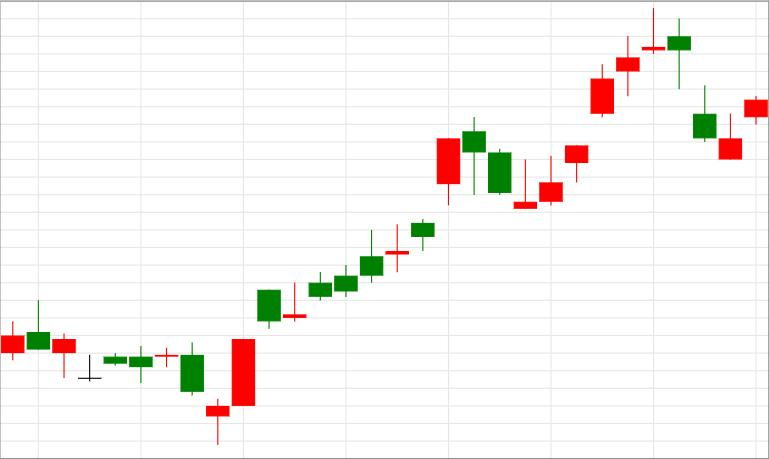morning_star_rise: (103, 339, 256, 445)
